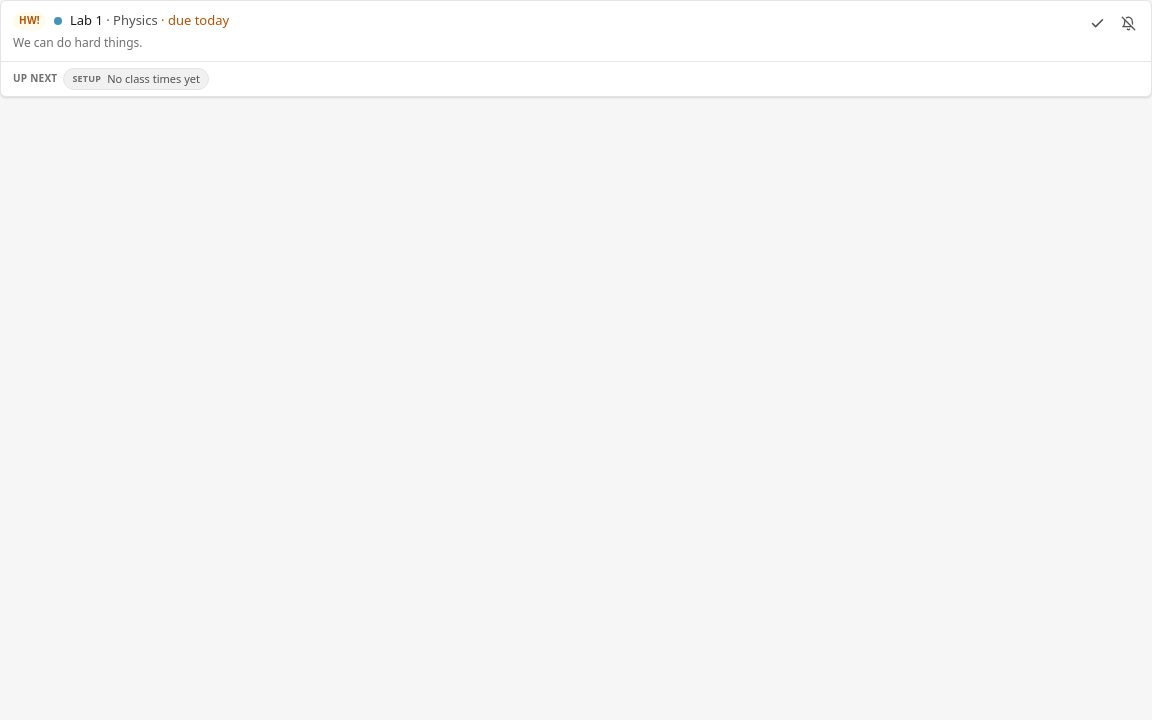
RadarCard › deep-links the headline into the course dialog on the right tab
Click the button with test id "radar-main" at (29, 21), box [1,1,1083,60]
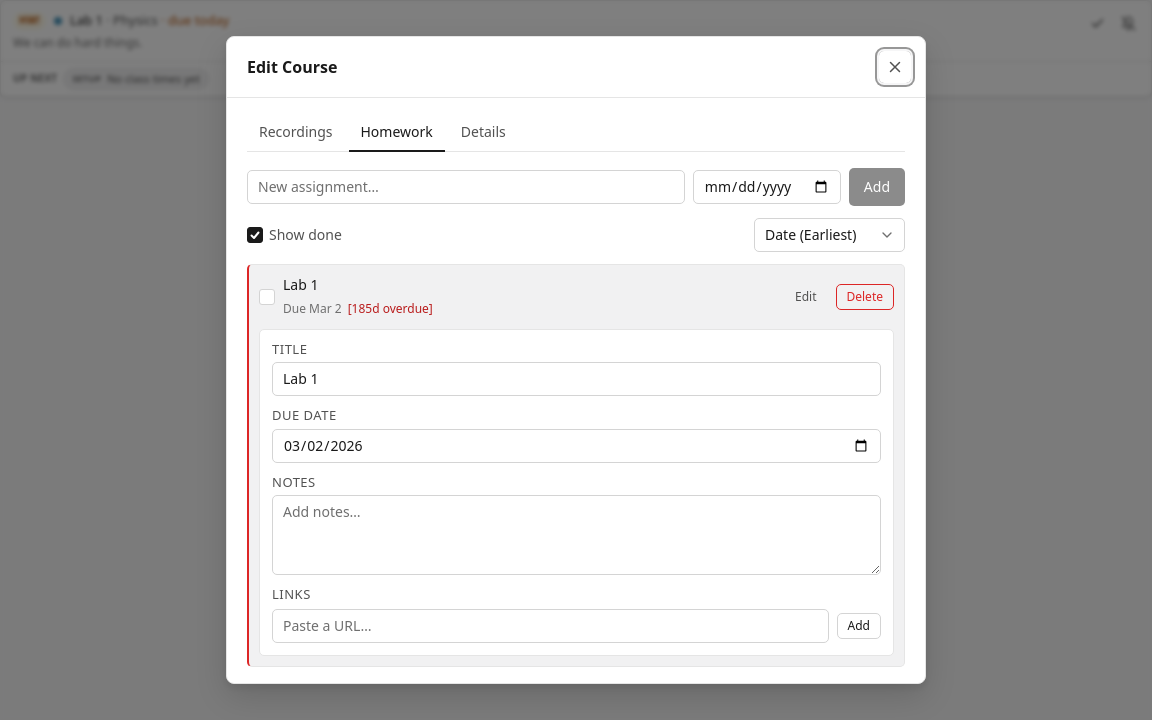
Result: the text "Lab 1" is shown at [283,275,318,294]
